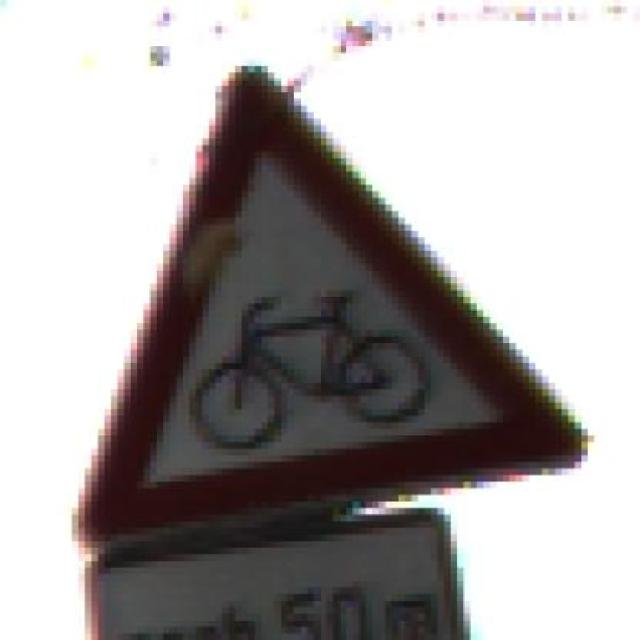CYCLE ROUTE AHEAD WARNING: (39, 53, 601, 555)
